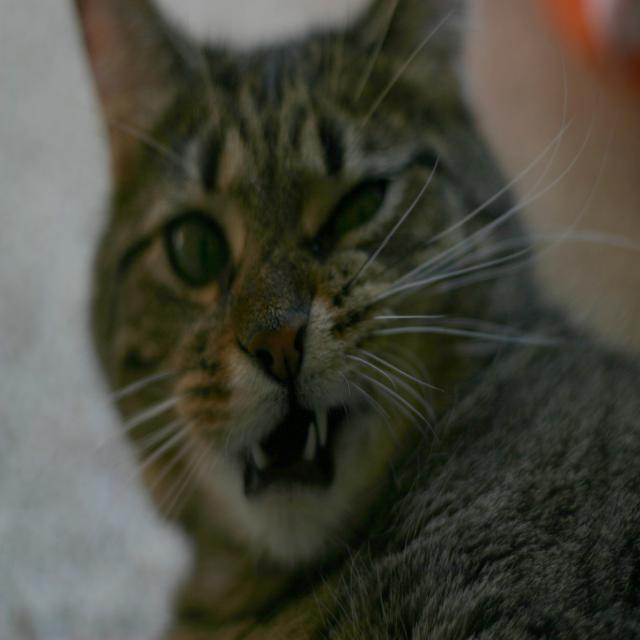Cat: (77, 0, 638, 638)
